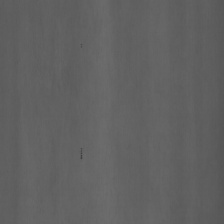oil_spot: (78, 141, 83, 163)
